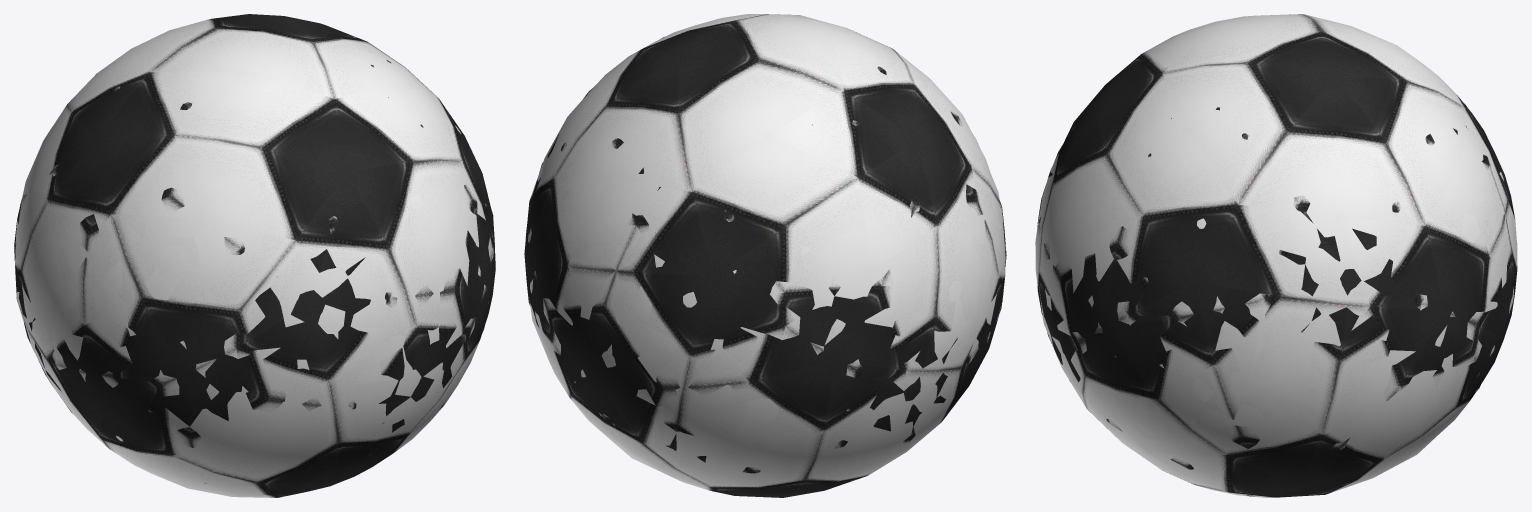
File: ball40.glb
3 views of the same model, side by side, from view 1: azimuth 30°, elevation 25°; view 2: azimuth 150°, elevation 25°; view 3: azimuth 270°, elevation 25° (orthographic).
Parts seen in each view (by area): view 1: ball40, GeoSphere003; view 2: ball40, GeoSphere003; view 3: ball40, GeoSphere003.
Part boxes in pixels (<box>): ball40: <box>15,14,494,483</box>; GeoSphere003: <box>14,41,495,497</box>; ball40: <box>524,14,1006,473</box>; GeoSphere003: <box>525,37,1005,497</box>; ball40: <box>1035,14,1517,496</box>; GeoSphere003: <box>1035,23,1517,497</box>.
Size of the model in its own units: 0.3212 by 0.3221 by 0.3208.
Materials: 2 (2 with a texture image).
